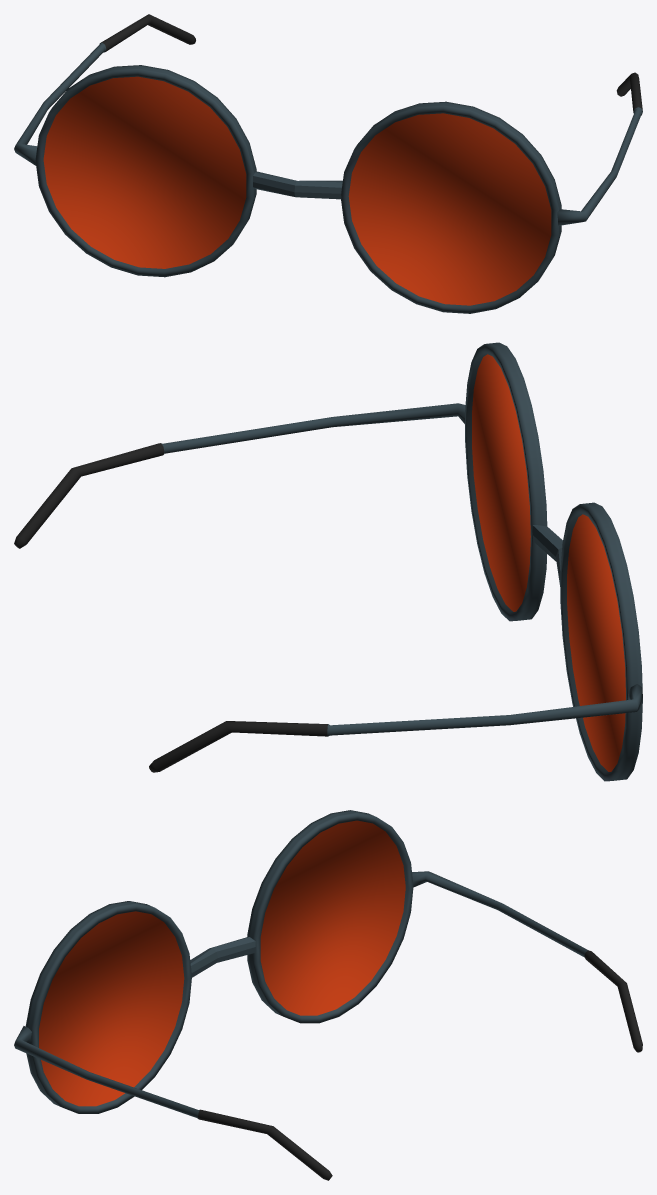
Rendered from redglasses.glb.
3 renders of one model, top to bottom at view 1: azimuth 30°, elevation 25°; view 2: azimuth 150°, elevation 25°; view 3: azimuth 270°, elevation 25°, orthographic. The views are drawn at different scales.
Parts seen in each view (by area): view 1: glasses_blue; view 2: glasses_blue; view 3: glasses_blue.
Part boxes in pixels (x1,y1,x2,y2): glasses_blue: [14, 14, 642, 313]; glasses_blue: [14, 342, 642, 781]; glasses_blue: [14, 810, 642, 1180].
Bounding box in the file's own units: 0.3248 × 0.1143 × 0.326.
Materials: 2 (2 with a texture image).
